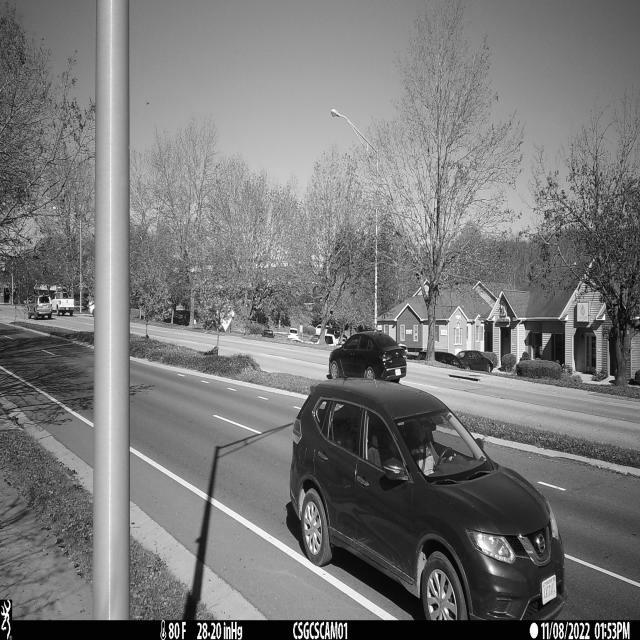SUV: (288, 380, 568, 622)
